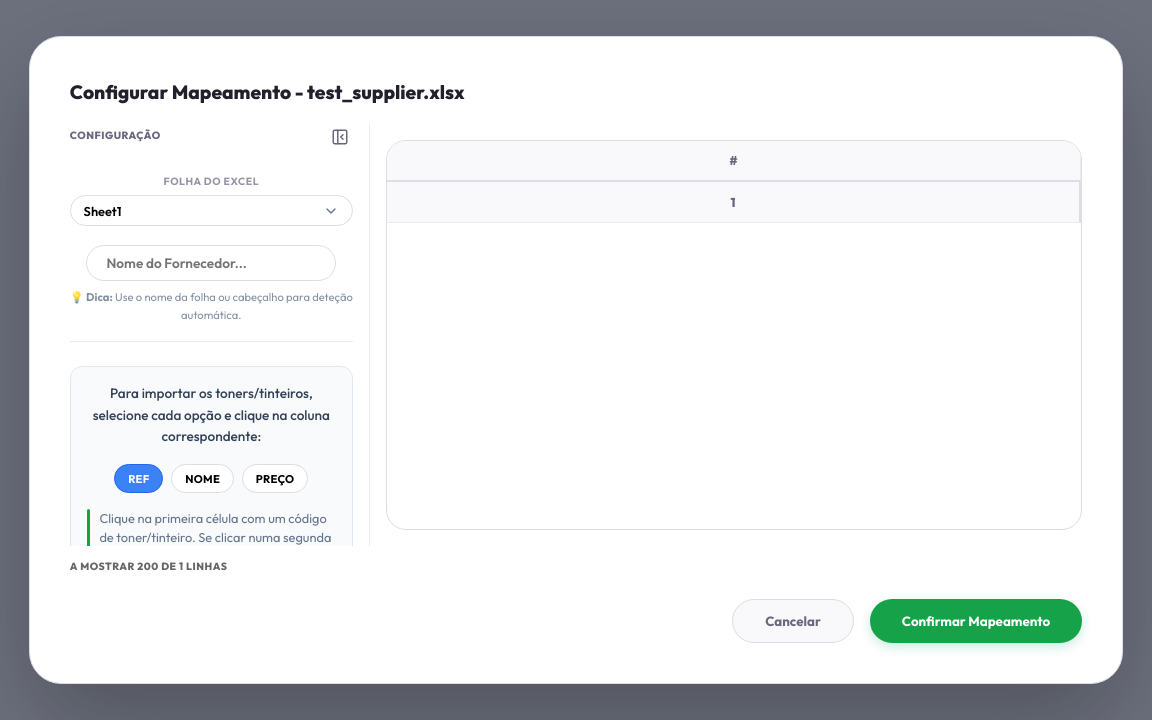
Scenario: MappingModal Validation › should show warning when company name is empty
Click the button "Confirmar Mapeamento". click: (976, 621)
box: x1=870 y1=599 x2=1082 y2=643
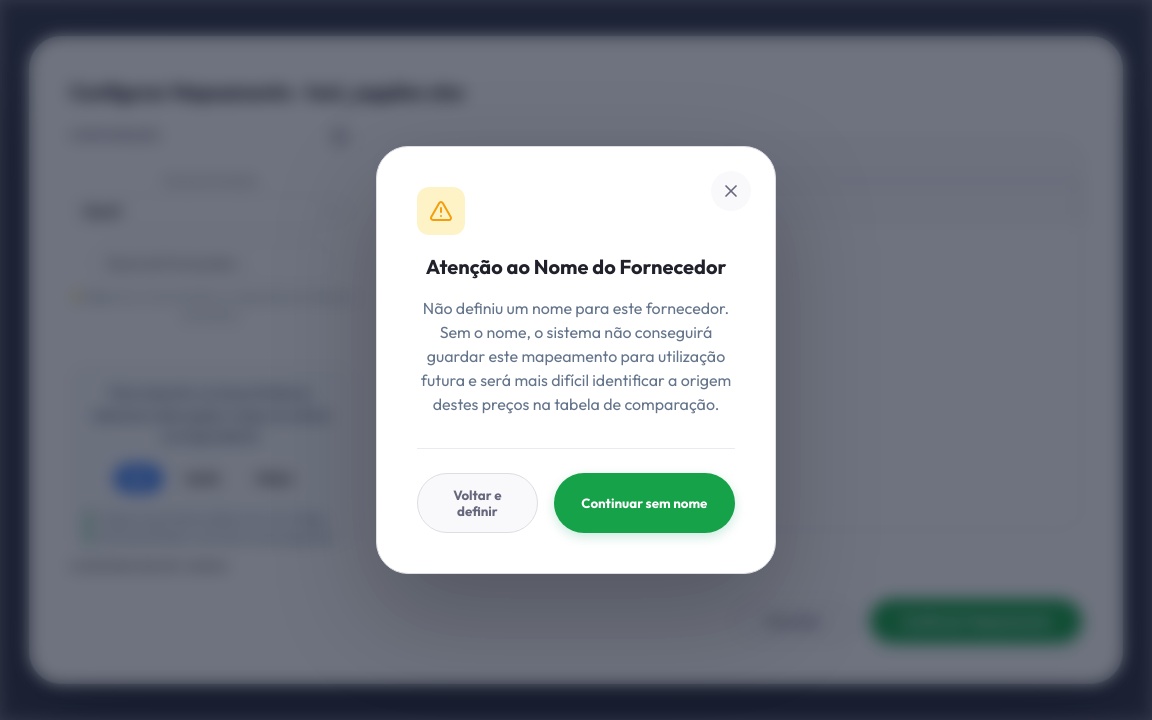
Check: the heading "Atenção ao Nome do Fornecedor" is shown, box x1=417 y1=251 x2=735 y2=283
Check: the text "Não definiu um nome para este fornecedor" is shown, box x1=421 y1=298 x2=731 y2=414
